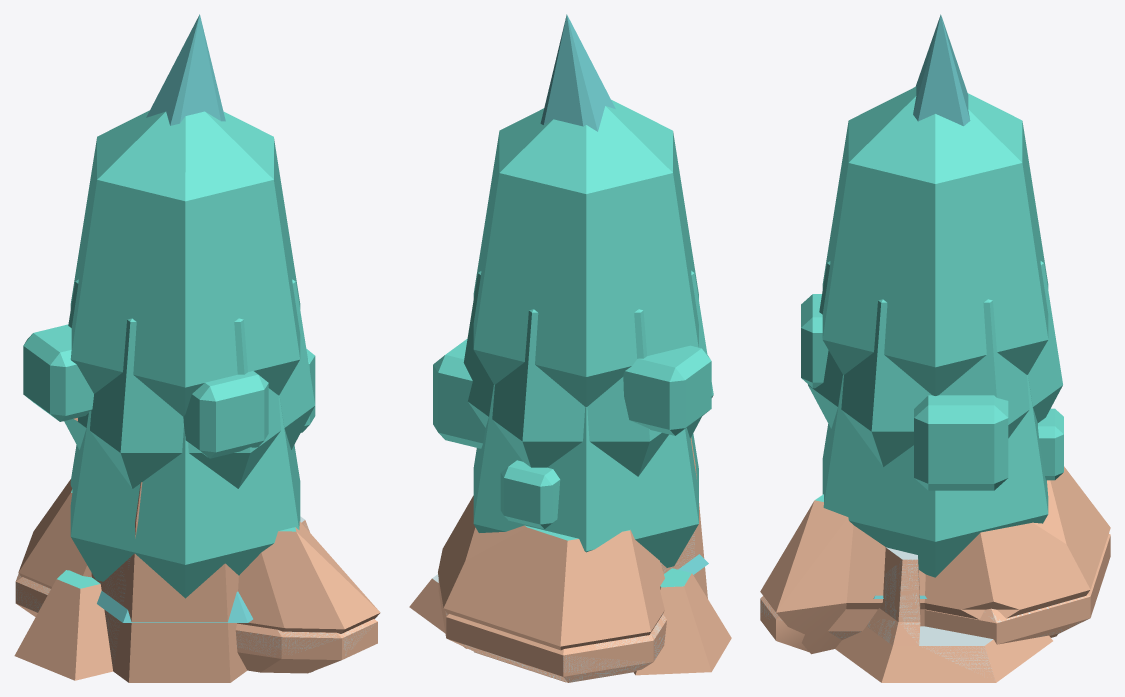
The model's file is nature_kit.glb.
3 renders of one model, left to right at view 1: azimuth 30°, elevation 25°; view 2: azimuth 150°, elevation 25°; view 3: azimuth 270°, elevation 25°, orthographic.
Visible parts, largest first — view 1: tree_default, tree_fat, rock_tallA, rock_largeB, tree_oak, tree_detailed, rock_largeA, tree_pineTallB_detailed, tree_pineRoundA, stone_largeA; view 2: tree_default, rock_largeB, tree_fat, tree_oak, tree_detailed, rock_tallA, rock_largeA, tree_pineTallB_detailed, stone_largeA; view 3: tree_default, rock_largeB, tree_fat, tree_oak, tree_detailed, rock_tallA, rock_largeA, tree_pineTallB_detailed, stone_tallA.
Part boxes in pixels (x1=…): tree_default: x1=70, y1=110, x2=300, y2=416; tree_fat: x1=70, y1=395, x2=300, y2=598; rock_tallA: x1=14, y1=482, x2=309, y2=682; rock_largeB: x1=18, y1=479, x2=380, y2=672; tree_oak: x1=64, y1=279, x2=315, y2=488; tree_detailed: x1=23, y1=324, x2=315, y2=458; rock_largeA: x1=15, y1=573, x2=377, y2=673; tree_pineTallB_detailed: x1=146, y1=14, x2=225, y2=125; tree_pineRoundA: x1=97, y1=591, x2=252, y2=622; stone_largeA: x1=16, y1=574, x2=373, y2=656; tree_default: x1=473, y1=100, x2=698, y2=406; rock_largeB: x1=438, y1=495, x2=664, y2=682; tree_fat: x1=473, y1=384, x2=698, y2=567; tree_oak: x1=463, y1=270, x2=713, y2=476; tree_detailed: x1=433, y1=338, x2=711, y2=529; rock_tallA: x1=409, y1=437, x2=731, y2=675; rock_largeA: x1=438, y1=579, x2=666, y2=682; tree_pineTallB_detailed: x1=540, y1=14, x2=615, y2=131; stone_largeA: x1=446, y1=614, x2=665, y2=682; tree_default: x1=822, y1=86, x2=1048, y2=395; rock_largeB: x1=760, y1=466, x2=1110, y2=654; tree_fat: x1=822, y1=375, x2=1048, y2=577; tree_oak: x1=808, y1=261, x2=1062, y2=466; tree_detailed: x1=801, y1=294, x2=1063, y2=490; rock_tallA: x1=835, y1=547, x2=1052, y2=682; rock_largeA: x1=760, y1=534, x2=1110, y2=651; tree_pineTallB_detailed: x1=913, y1=14, x2=970, y2=126; stone_tallA: x1=867, y1=547, x2=992, y2=671.
Size of the model in its own units: 0.9831 by 1.93 by 1.02.
